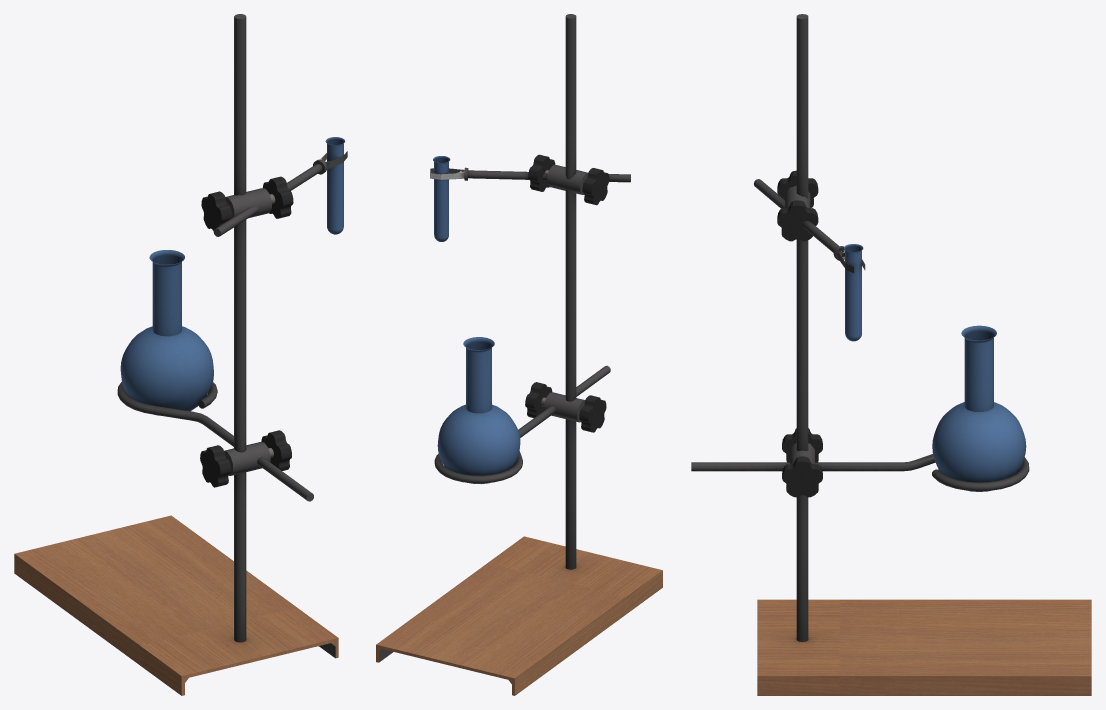
The model's file is ExperimentA.fbx.
The picture shows the model from 3 angles, left to right: view 1: azimuth 30°, elevation 25°; view 2: azimuth 150°, elevation 25°; view 3: azimuth 270°, elevation 25°; orthographic projection. The views are drawn at different scales.
Parts seen in each view (by area): view 1: ExperimentA; view 2: ExperimentA; view 3: ExperimentA.
Part boxes in pixels (x1=…): ExperimentA: x1=14, y1=14, x2=347, y2=695; ExperimentA: x1=376, y1=14, x2=662, y2=695; ExperimentA: x1=691, y1=14, x2=1091, y2=695.
Size of the model in its own units: 21.86 by 62.62 by 35.36.
